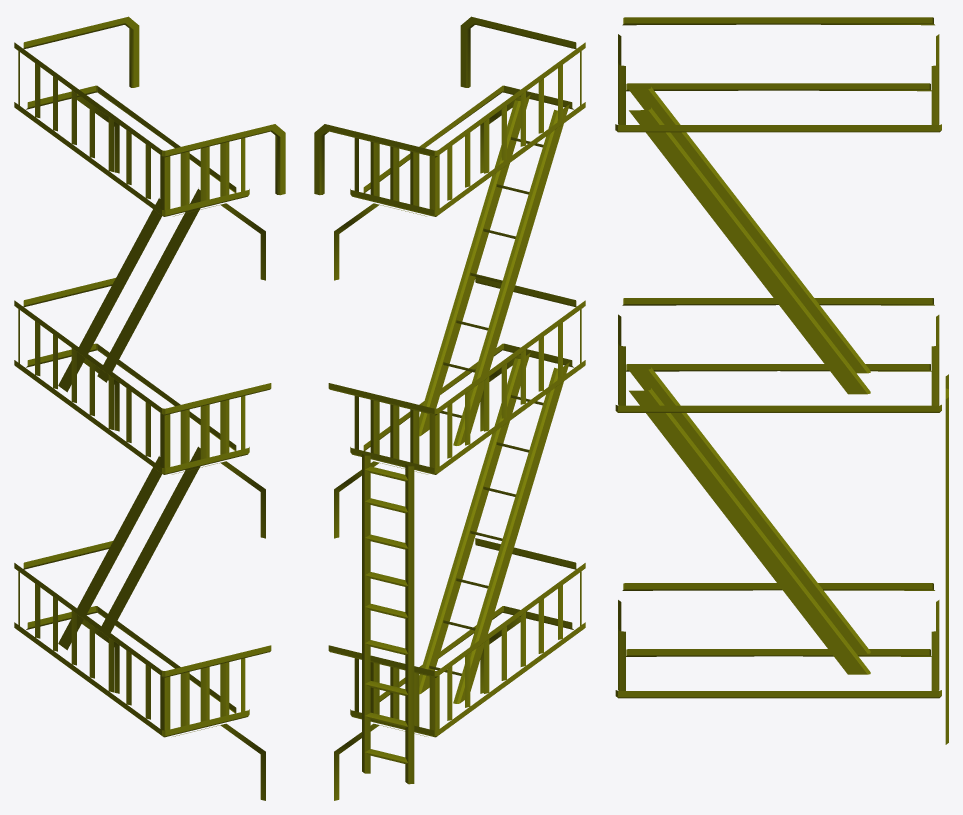
The model's file is FireEscape.glb.
The picture shows the model from 3 angles, left to right: view 1: azimuth 30°, elevation 25°; view 2: azimuth 150°, elevation 25°; view 3: azimuth 270°, elevation 25°; orthographic projection. The views are drawn at different scales.
Parts seen in each view (by area): view 1: FireEscape; view 2: FireEscape; view 3: FireEscape.
Part boxes in pixels (x1,y1,x2,y2): FireEscape: (14, 16, 285, 800); FireEscape: (314, 16, 585, 800); FireEscape: (615, 17, 948, 744).
Bounding box in the file's own units: 2.88 × 15.14 × 6.27.
5 materials, 5 textured.
